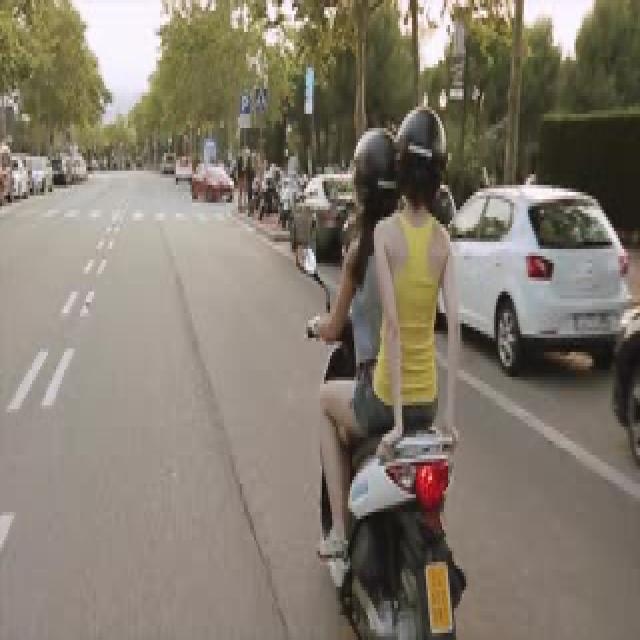helmet: (394, 99, 453, 226), (345, 107, 397, 230)
motorcycle: (264, 78, 492, 640)
